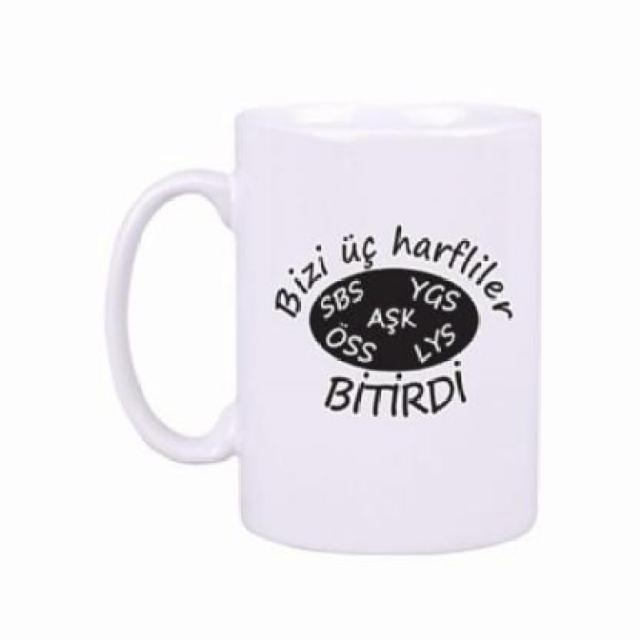taza: (96, 82, 554, 564)
